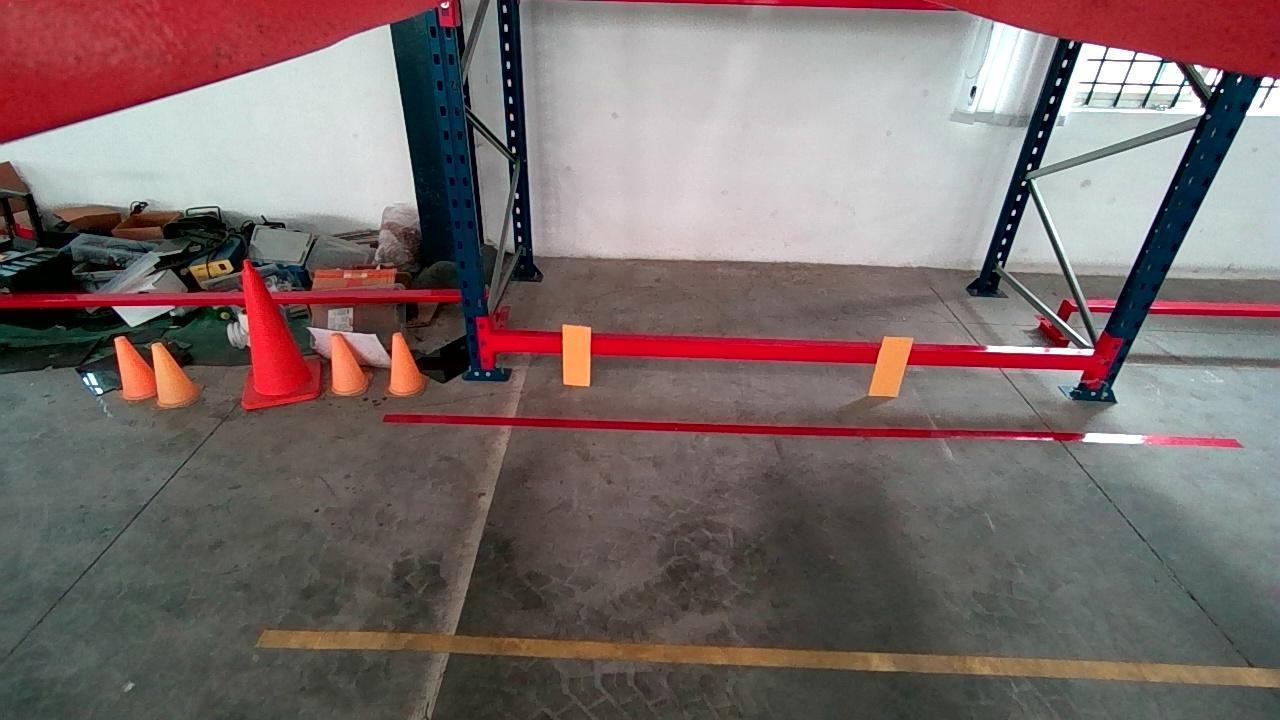h_rack: (492, 332, 1098, 371)
orange_strip: (868, 335, 916, 395), (564, 324, 589, 386)
red_line: (378, 411, 1243, 449)
yellow_line: (253, 630, 1278, 688)
